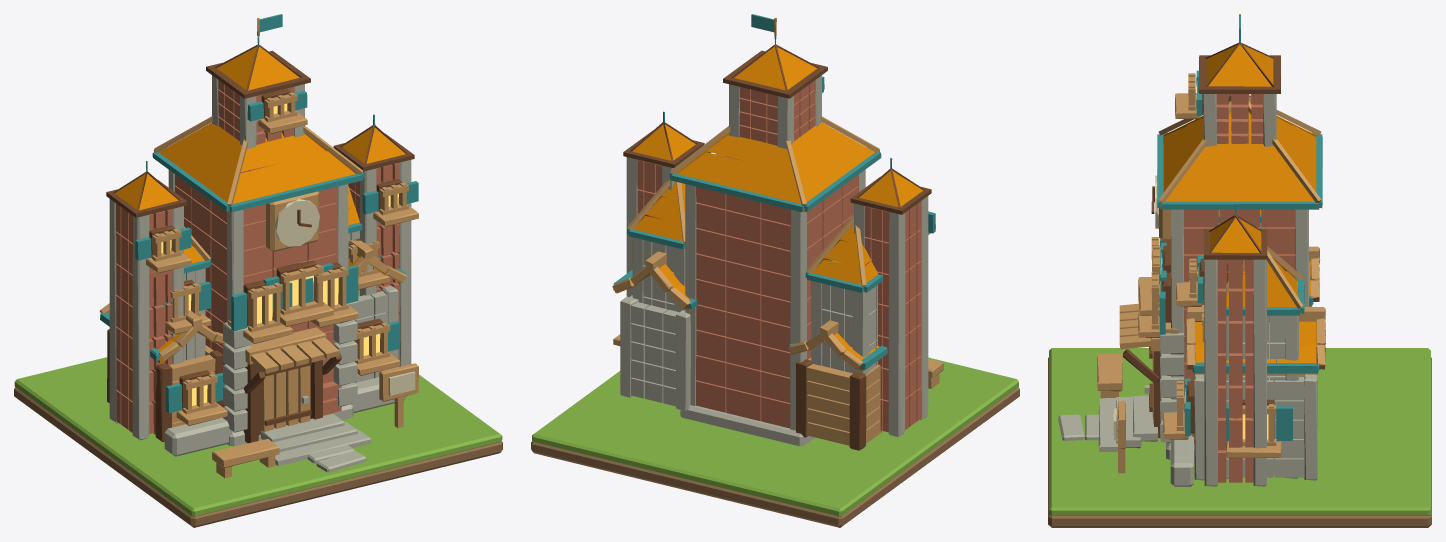
File: town_hall_l09_active_LOD1.glb
The picture shows the model from 3 angles, left to right: view 1: azimuth 30°, elevation 25°; view 2: azimuth 150°, elevation 25°; view 3: azimuth 270°, elevation 25°; orthographic projection. The views are drawn at different scales.
Parts seen in each view (by area): view 1: town_hall_l09_active_foundation.001, town_hall_l09_active_grass_tile.001, town_hall_l09_active_earth_tile.001, town_hall_l09_active_path_stone.005; view 2: town_hall_l09_active_foundation.001, town_hall_l09_active_grass_tile.001, town_hall_l09_active_earth_tile.001; view 3: town_hall_l09_active_foundation.001, town_hall_l09_active_grass_tile.001, town_hall_l09_active_earth_tile.001, town_hall_l09_active_path_stone.005.
Part boxes in pixels (x1,y1,x2,y2): town_hall_l09_active_foundation.001: (99, 14, 418, 478); town_hall_l09_active_grass_tile.001: (14, 357, 502, 516); town_hall_l09_active_earth_tile.001: (14, 387, 502, 527); town_hall_l09_active_path_stone.005: (316, 450, 366, 472); town_hall_l09_active_foundation.001: (612, 14, 943, 450); town_hall_l09_active_grass_tile.001: (532, 357, 1018, 516); town_hall_l09_active_earth_tile.001: (531, 387, 1019, 527); town_hall_l09_active_foundation.001: (1097, 14, 1325, 486); town_hall_l09_active_grass_tile.001: (1049, 348, 1430, 515); town_hall_l09_active_earth_tile.001: (1048, 357, 1431, 527); town_hall_l09_active_path_stone.005: (1058, 414, 1084, 440).
Size of the model in its own units: 3.6 by 4.49 by 3.6.
